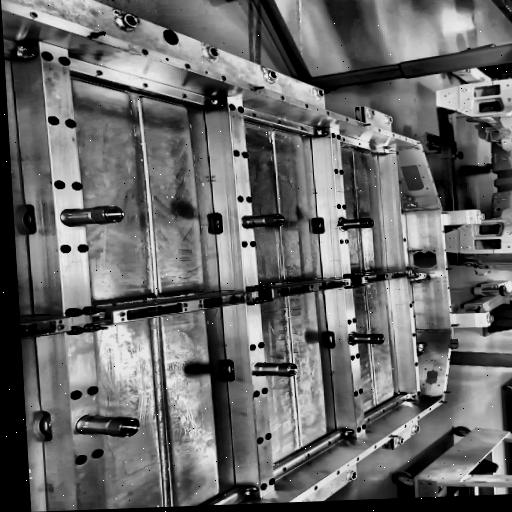b_casing: (0, 0, 453, 512)
